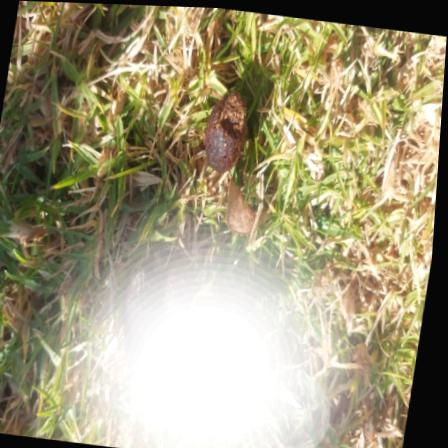dog-poop: (199, 80, 261, 173)
